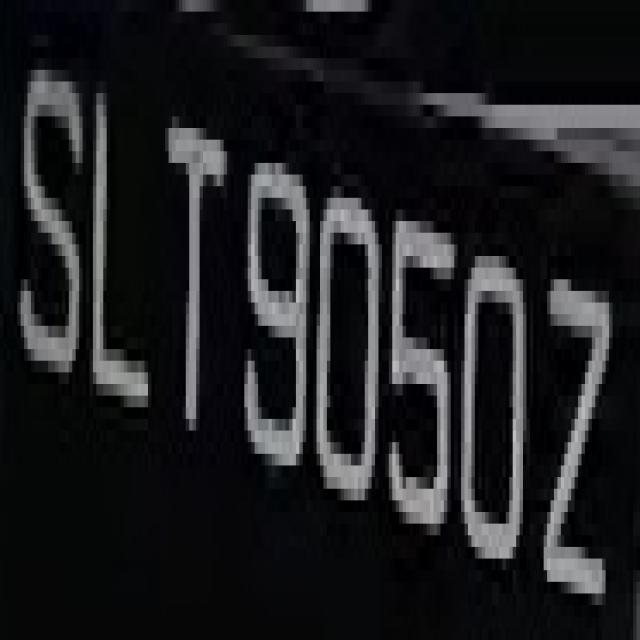0: (313, 128, 382, 524), (458, 232, 533, 558)
5: (378, 163, 464, 558)
9: (234, 105, 313, 500)
L: (86, 70, 158, 454)
S: (7, 46, 79, 419)
T: (155, 70, 230, 489)
Z: (537, 198, 612, 605)
